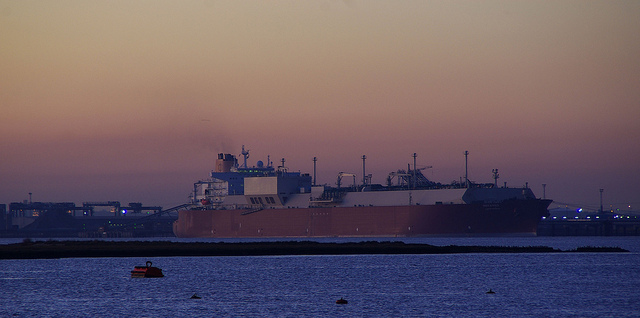LNG_ship: (168, 153, 551, 235)
